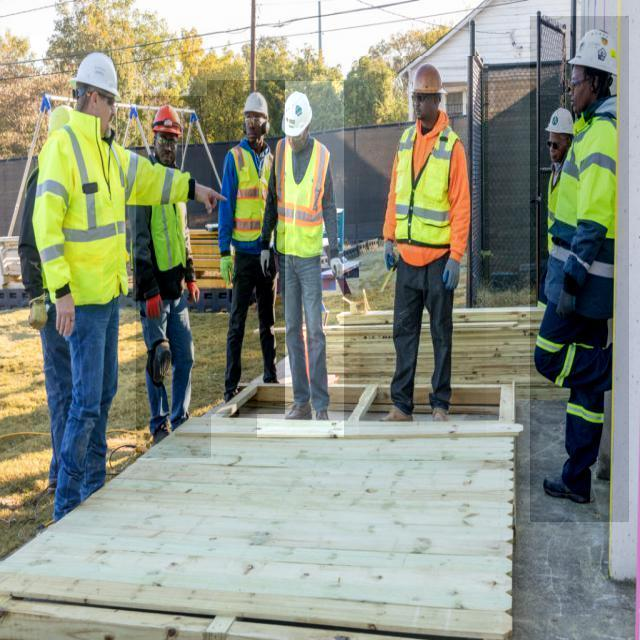Gloves: (547, 268, 590, 322), (217, 239, 240, 297), (380, 234, 410, 273), (440, 253, 463, 298), (258, 238, 278, 281), (327, 249, 349, 288)
Helmet: (70, 52, 122, 102), (569, 29, 621, 78), (403, 67, 456, 101), (281, 91, 314, 137), (240, 90, 271, 121), (153, 104, 183, 136), (546, 110, 574, 138)
Person: (16, 37, 198, 541), (529, 14, 640, 519), (370, 51, 493, 434), (273, 78, 349, 432), (214, 77, 273, 440)
Safety Boot: (542, 475, 592, 505), (282, 401, 312, 423), (380, 405, 415, 422), (431, 405, 452, 421)
Safety Vest: (34, 112, 196, 305), (541, 112, 617, 320), (397, 125, 462, 247), (274, 137, 332, 259), (226, 145, 275, 244), (150, 200, 190, 273)
bare-arms: (48, 274, 83, 349), (195, 183, 223, 221)
